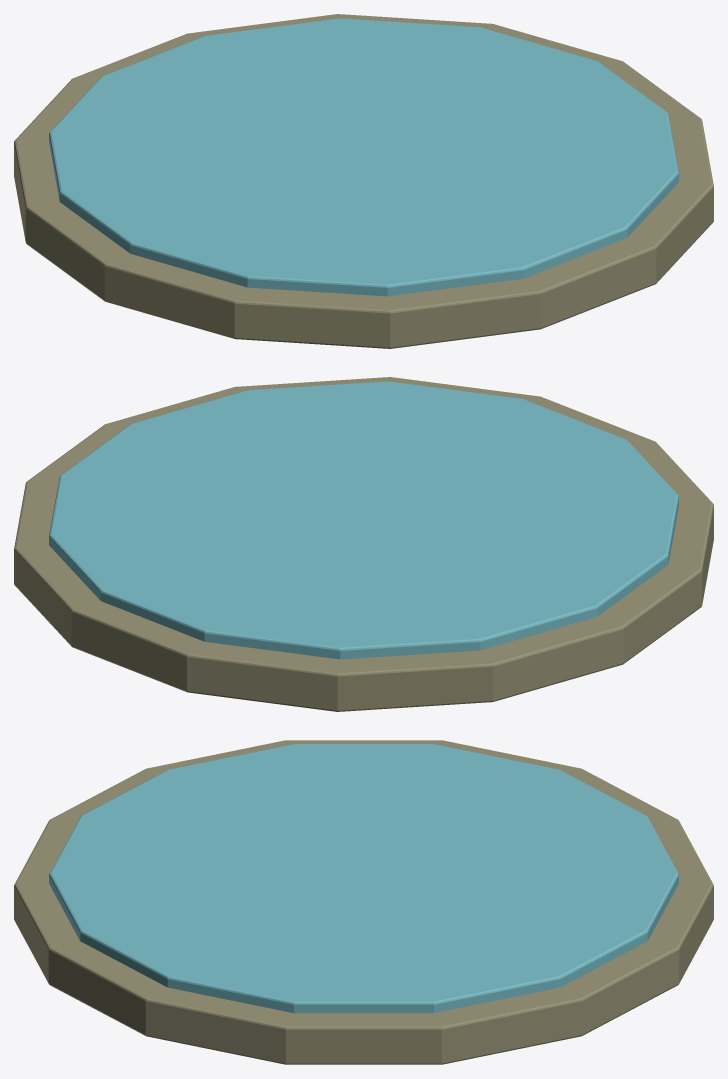
The model's file is SM_Warmerdamm_Pond.fbx.
3 renders of one model, top to bottom at view 1: azimuth 30°, elevation 25°; view 2: azimuth 150°, elevation 25°; view 3: azimuth 270°, elevation 25°, orthographic.
Visible parts, largest first — view 1: SM_Warmerdamm_Pond; view 2: SM_Warmerdamm_Pond; view 3: SM_Warmerdamm_Pond.
Part boxes in pixels (box(x1,y1,x2,y2)): SM_Warmerdamm_Pond: box(14, 14, 713, 348); SM_Warmerdamm_Pond: box(14, 377, 713, 711); SM_Warmerdamm_Pond: box(14, 740, 713, 1064).
Bounding box in the file's own units: 2.92 × 0.23 × 3.
